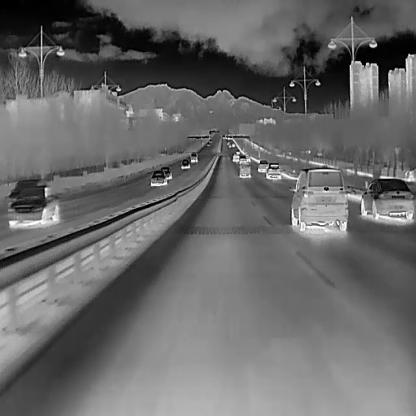car: (288, 166, 348, 231), (6, 184, 60, 228), (360, 177, 414, 221), (8, 178, 47, 203), (264, 162, 282, 180), (150, 169, 166, 186), (159, 166, 172, 180), (256, 160, 268, 172), (180, 158, 190, 169), (244, 152, 251, 162), (238, 154, 245, 162), (232, 153, 239, 161), (234, 148, 240, 154), (205, 140, 209, 146), (230, 141, 234, 147), (226, 139, 230, 145), (208, 138, 212, 142), (228, 143, 232, 147)
truck: (239, 162, 250, 178), (189, 151, 198, 162)
